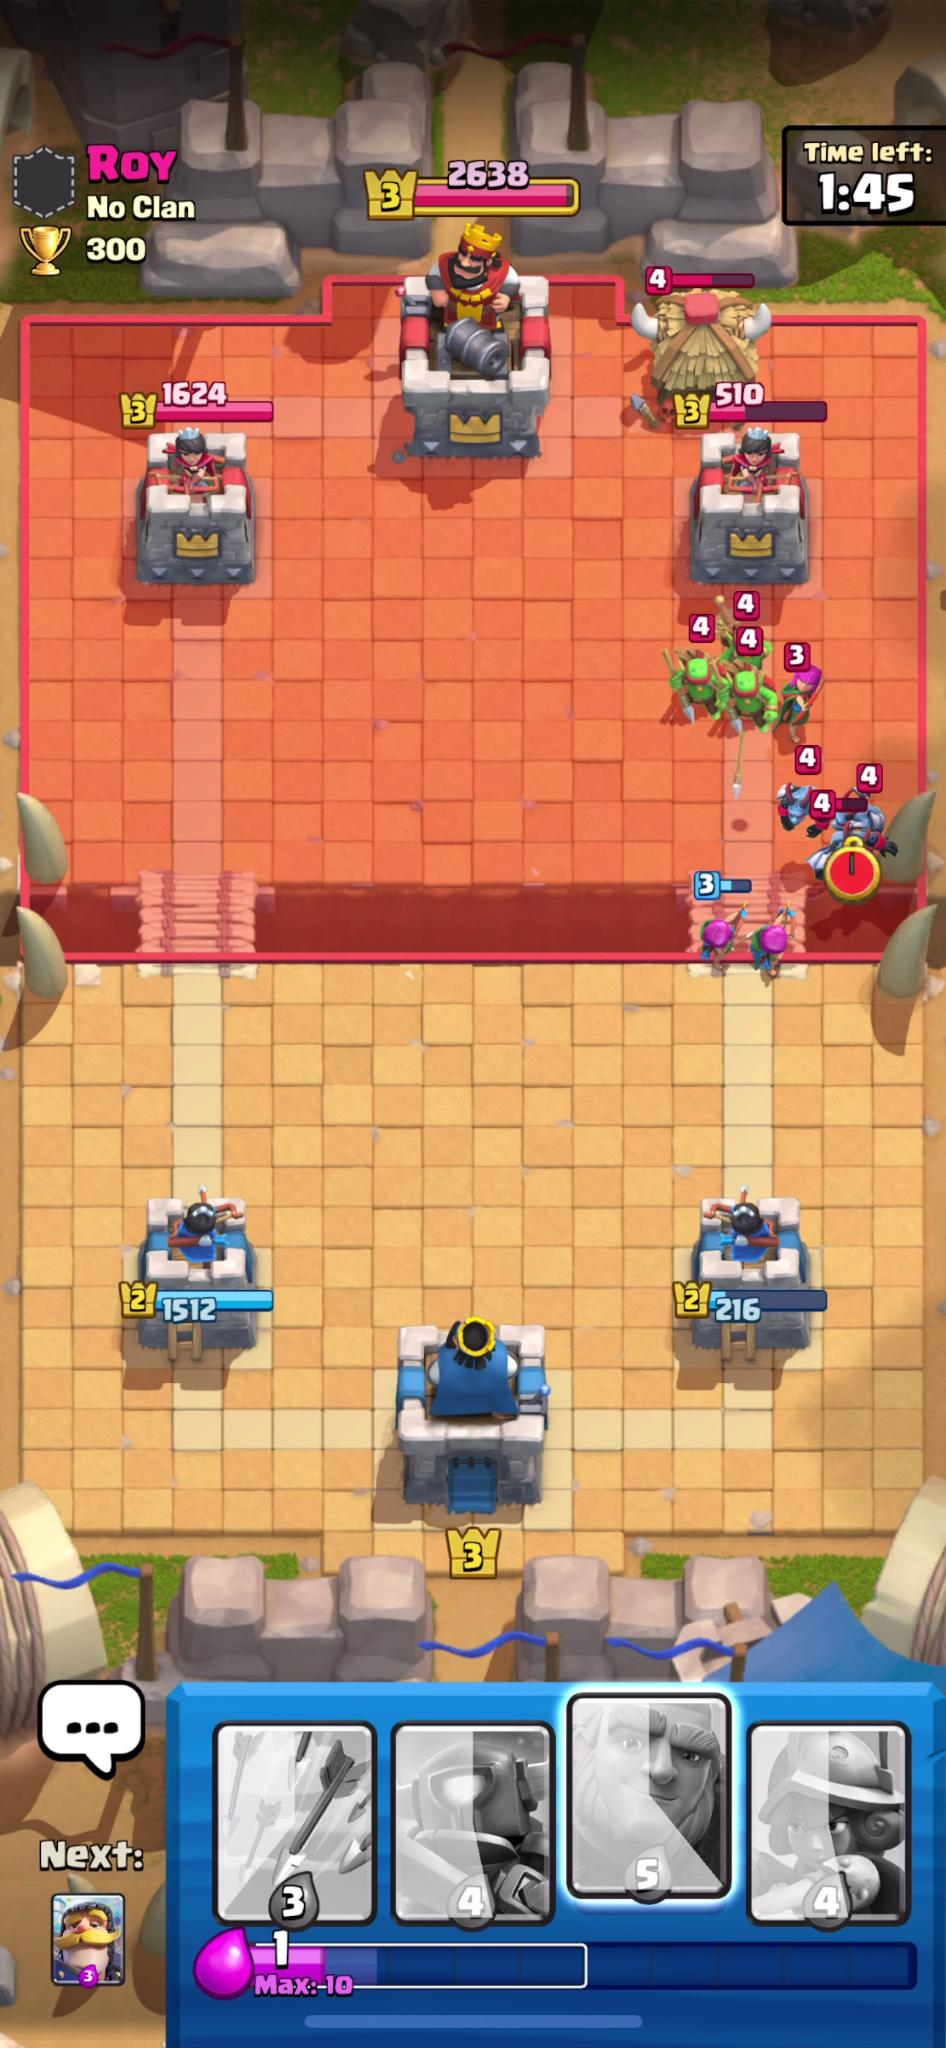archere: (774, 772, 827, 839), (696, 909, 757, 967), (753, 912, 802, 976), (787, 673, 838, 733)
gobelin: (730, 667, 780, 728)
gobelin_lances: (669, 649, 728, 722)
